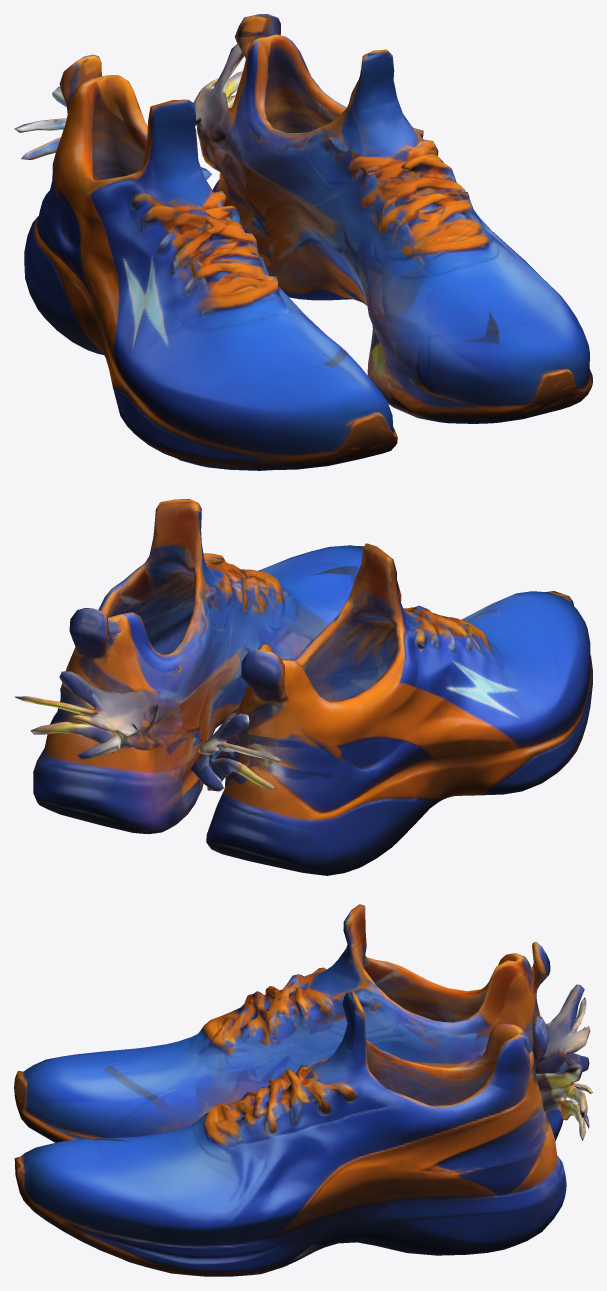
The model's file is 3dBotas.fbx.
3 views of the same model, one above another, from view 1: azimuth 30°, elevation 25°; view 2: azimuth 150°, elevation 25°; view 3: azimuth 270°, elevation 25° (orthographic). The views are drawn at different scales.
Visible parts, largest first — view 1: Mesh1.0; view 2: Mesh1.0; view 3: Mesh1.0.
Boxes of the visible parts, bbox=[...] form: Mesh1.0: bbox=[14, 14, 592, 470]; Mesh1.0: bbox=[14, 499, 592, 875]; Mesh1.0: bbox=[14, 904, 592, 1276].
Bounding box in the file's own units: 150 × 91.95 × 202.
Materials: 1 (1 with a texture image).
